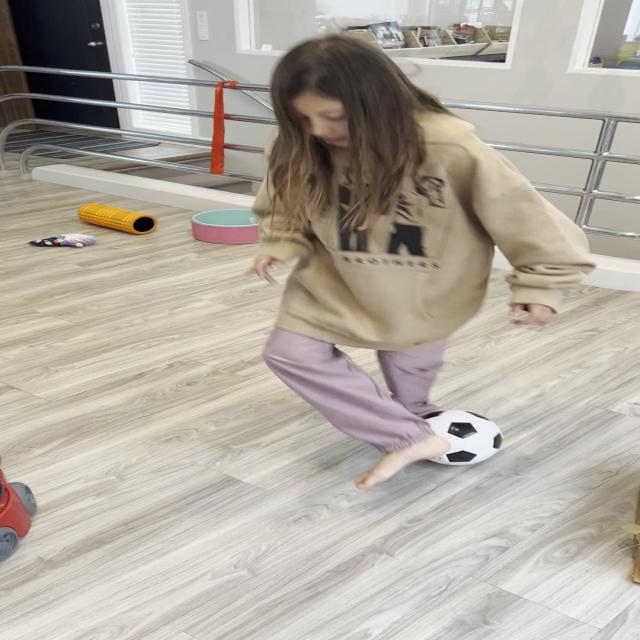Soccer Ball: (406, 408, 504, 466)
